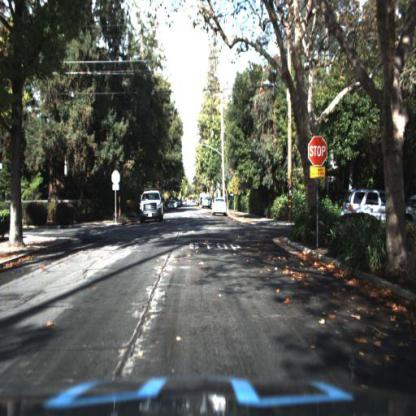car: (343, 185, 416, 236), (348, 187, 411, 229), (137, 187, 167, 228), (210, 195, 230, 221), (213, 199, 227, 216)
